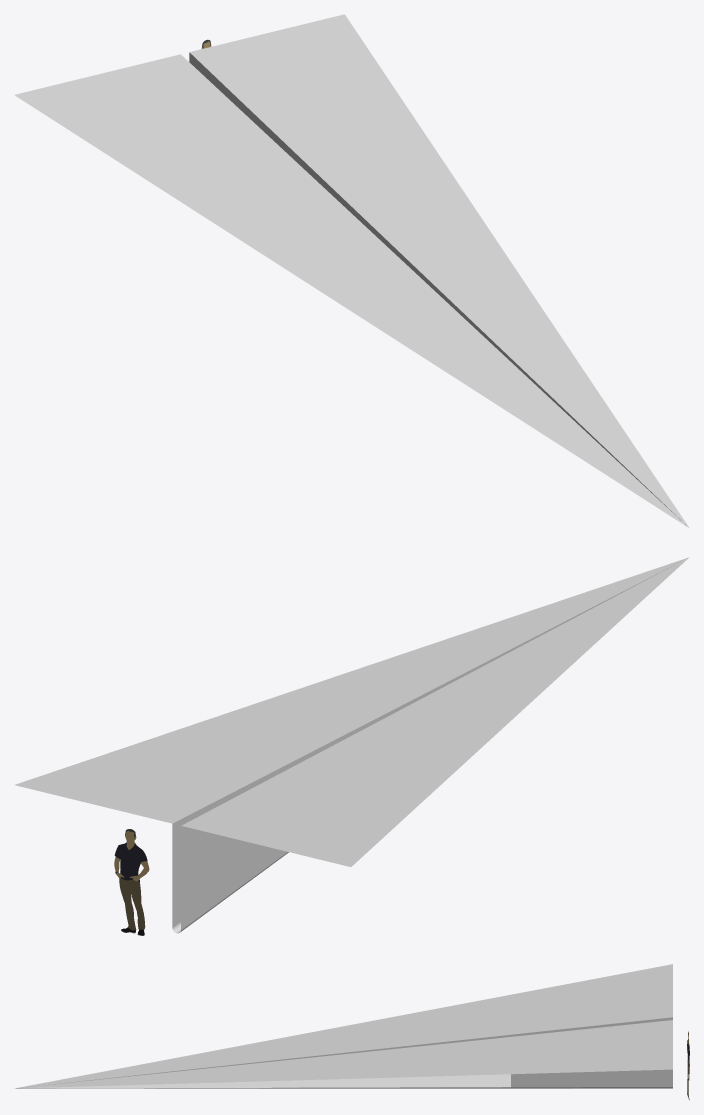
The model's file is airplane.dae.
3 views of the same model, one above another, from view 1: azimuth 30°, elevation 25°; view 2: azimuth 150°, elevation 25°; view 3: azimuth 270°, elevation 25° (orthographic). The views are drawn at different scales.
Visible parts, largest first — view 1: Component; view 2: Component, Chris (×2); view 3: Component.
Part boxes in pixels (x1,y1,x2,y2): Component: (14, 14, 689, 528); Component: (15, 557, 689, 933); Chris (×2): (114, 842, 147, 930); Component: (14, 964, 672, 1088).
Bounding box in the file's own units: 234 × 633 × 71.94.
